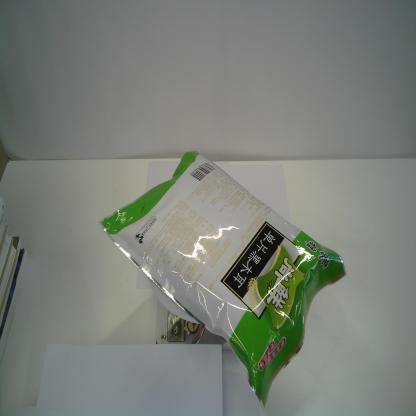Dried Food: (99, 150, 347, 412)
